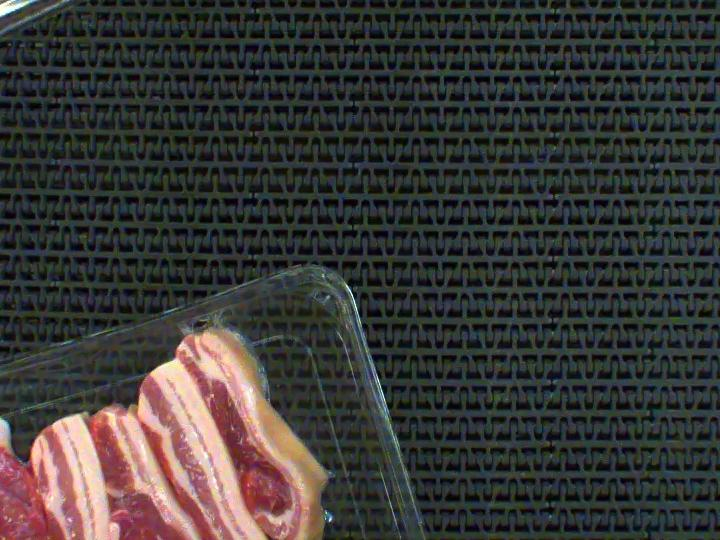packaging-error: (140, 278, 255, 369)
